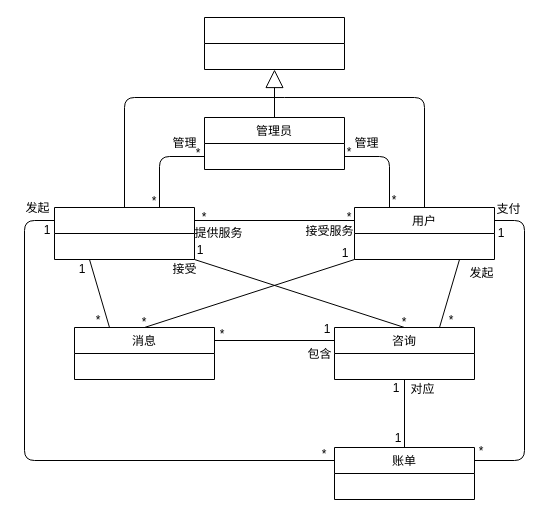
The diagram is 545 pixels wide and 517 high, and some of its shapes have lost their labels. The box of each missing label's shape, as (x1, y1, x2, y2) in pixels:
person: (204, 16, 344, 70)
律师: (54, 206, 194, 260)
